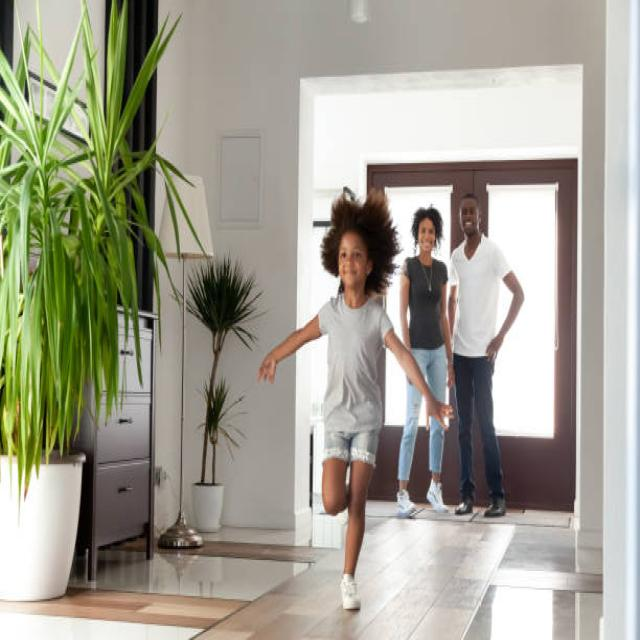Person: (258, 190, 456, 610), (451, 193, 524, 518), (397, 206, 448, 516)
